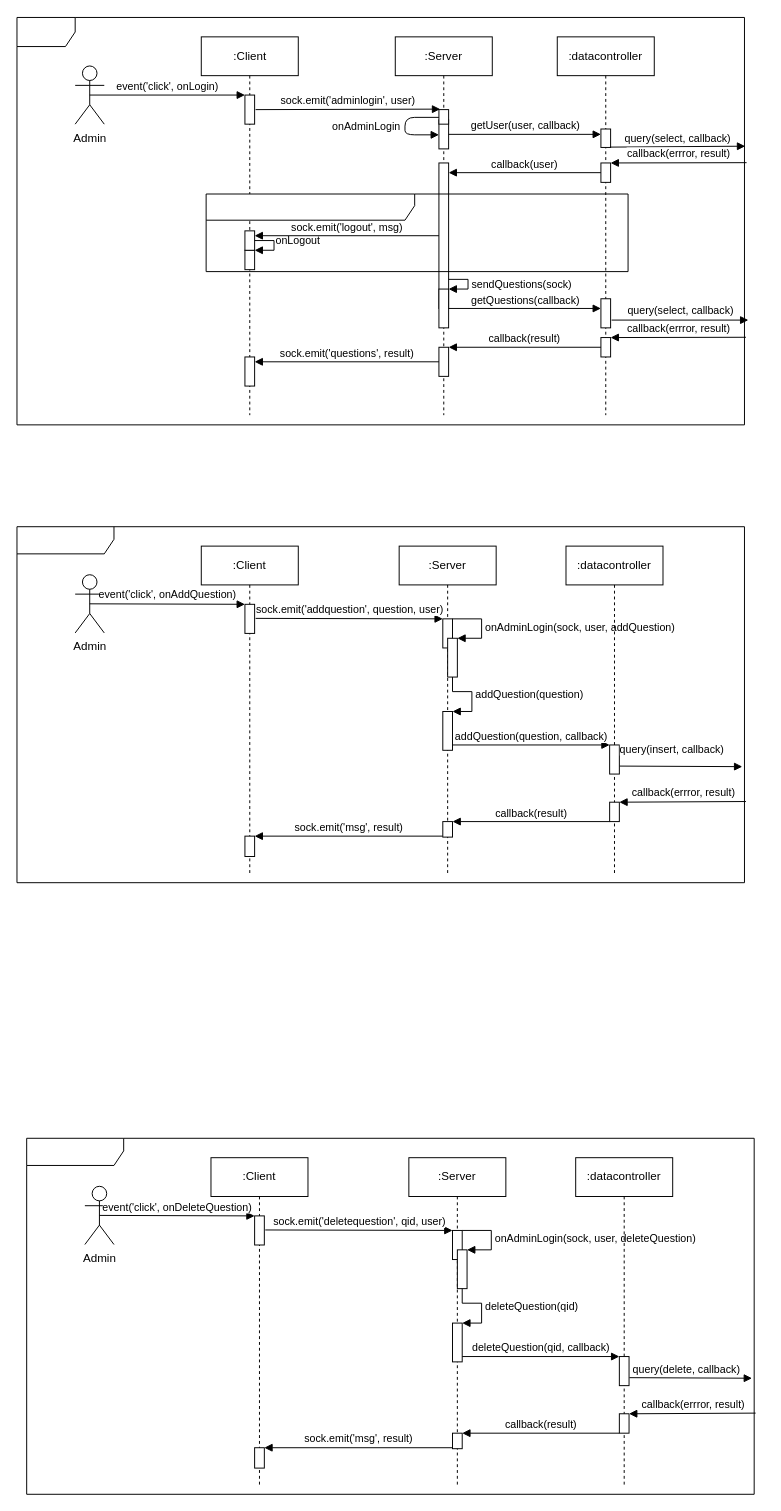
Some shapes in this 781 by 1511 pixel diagram are drawn without their labels. Here are the shapes that lost their labels. From the top down, the box of each, then its label:
(16, 16, 744, 425): Login
(205, 193, 628, 272): Wenn username und password falsch
(16, 526, 744, 883): AddQuestion
(26, 1137, 754, 1494): DeleteQuestion
